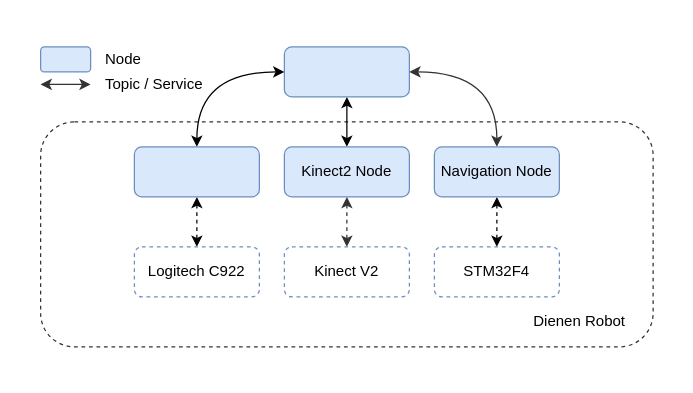
The diagram is 693 pixels wide and 393 high, and some of its shapes have lost their labels. Here are the shapes that lost their labels. From the top down, the centre of each, then its label:
At (x=346, y=71): "Behavior Node".
At (x=196, y=171): "V4L2 Camera Node".
